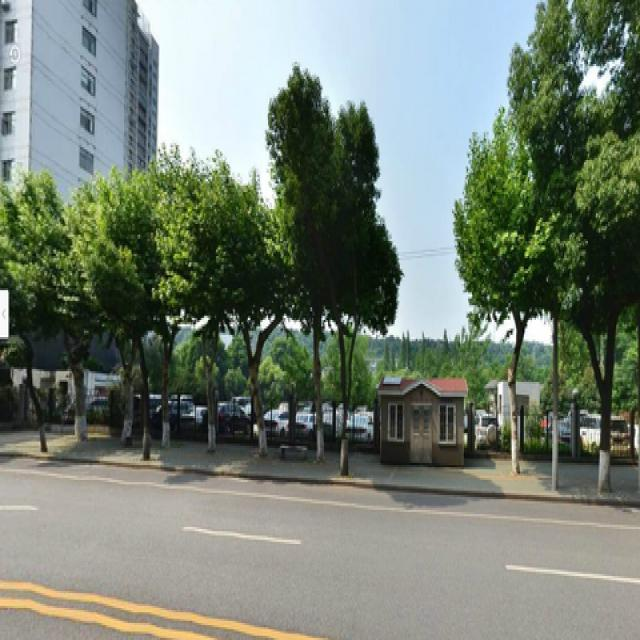cinn: (532, 23, 639, 463), (292, 81, 377, 489)
meta: (201, 171, 292, 454), (463, 143, 532, 482), (116, 173, 191, 450)
